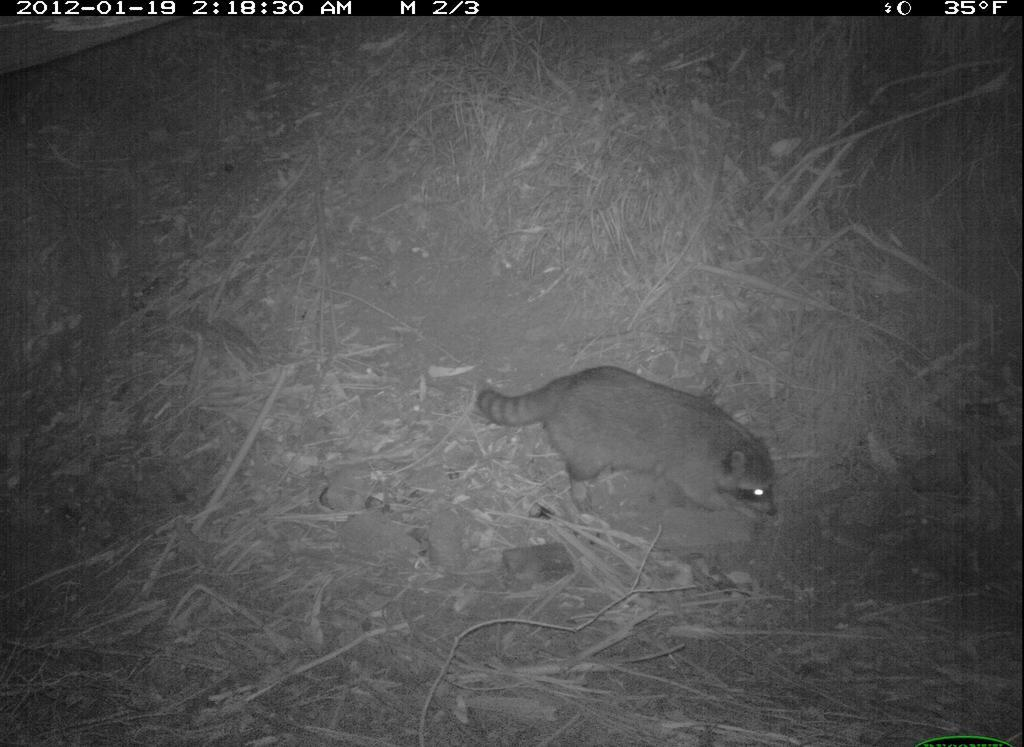raccoon: (457, 361, 792, 536)
